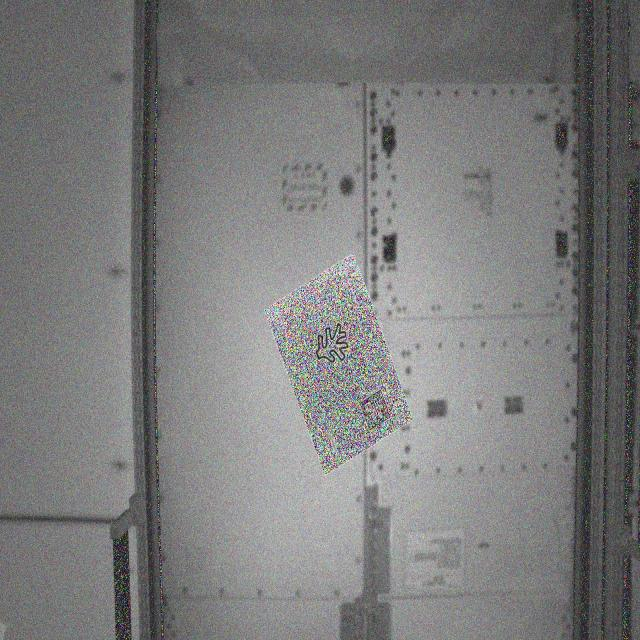coral: (306, 317, 349, 372)
